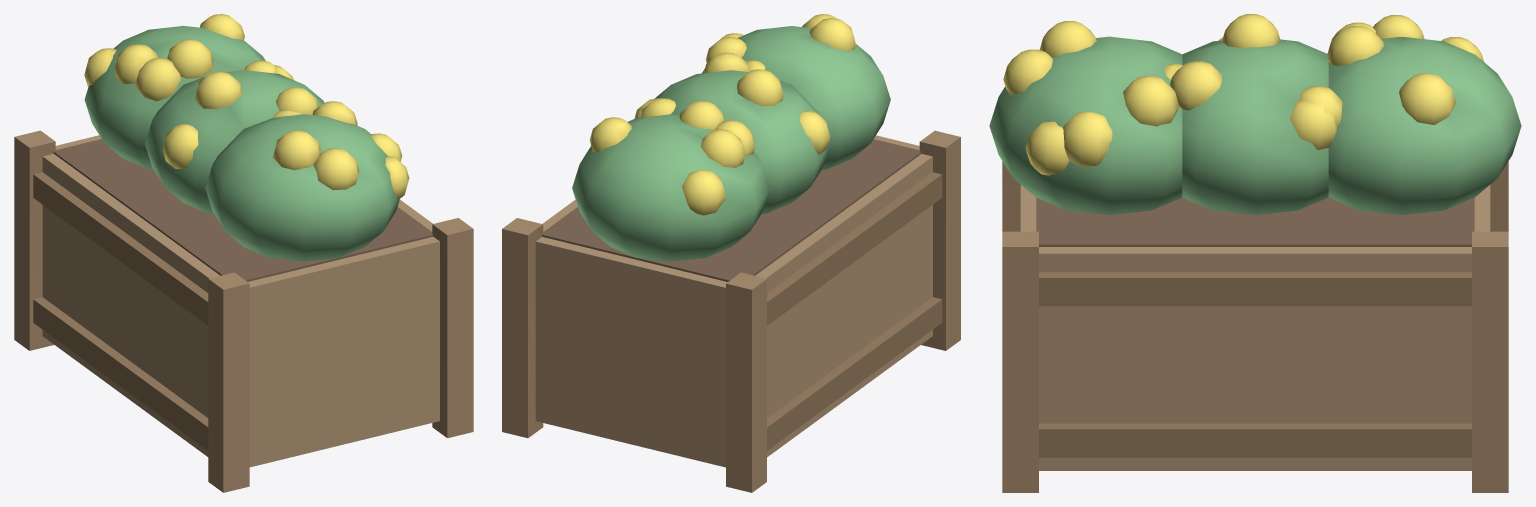
Rendered from Kerb_PlanterWood.fbx.
3 renders of one model, left to right at view 1: azimuth 30°, elevation 25°; view 2: azimuth 150°, elevation 25°; view 3: azimuth 270°, elevation 25°, orthographic. The views are drawn at different scales.
Visible parts, largest first — view 1: Kerb_PlanterWood; view 2: Kerb_PlanterWood; view 3: Kerb_PlanterWood.
Boxes of the visible parts, bbox=[...] form: Kerb_PlanterWood: bbox=[14, 14, 473, 492]; Kerb_PlanterWood: bbox=[502, 14, 960, 492]; Kerb_PlanterWood: bbox=[989, 14, 1521, 492].
Size of the model in its own units: 0.67 by 0.8188 by 1.02.
